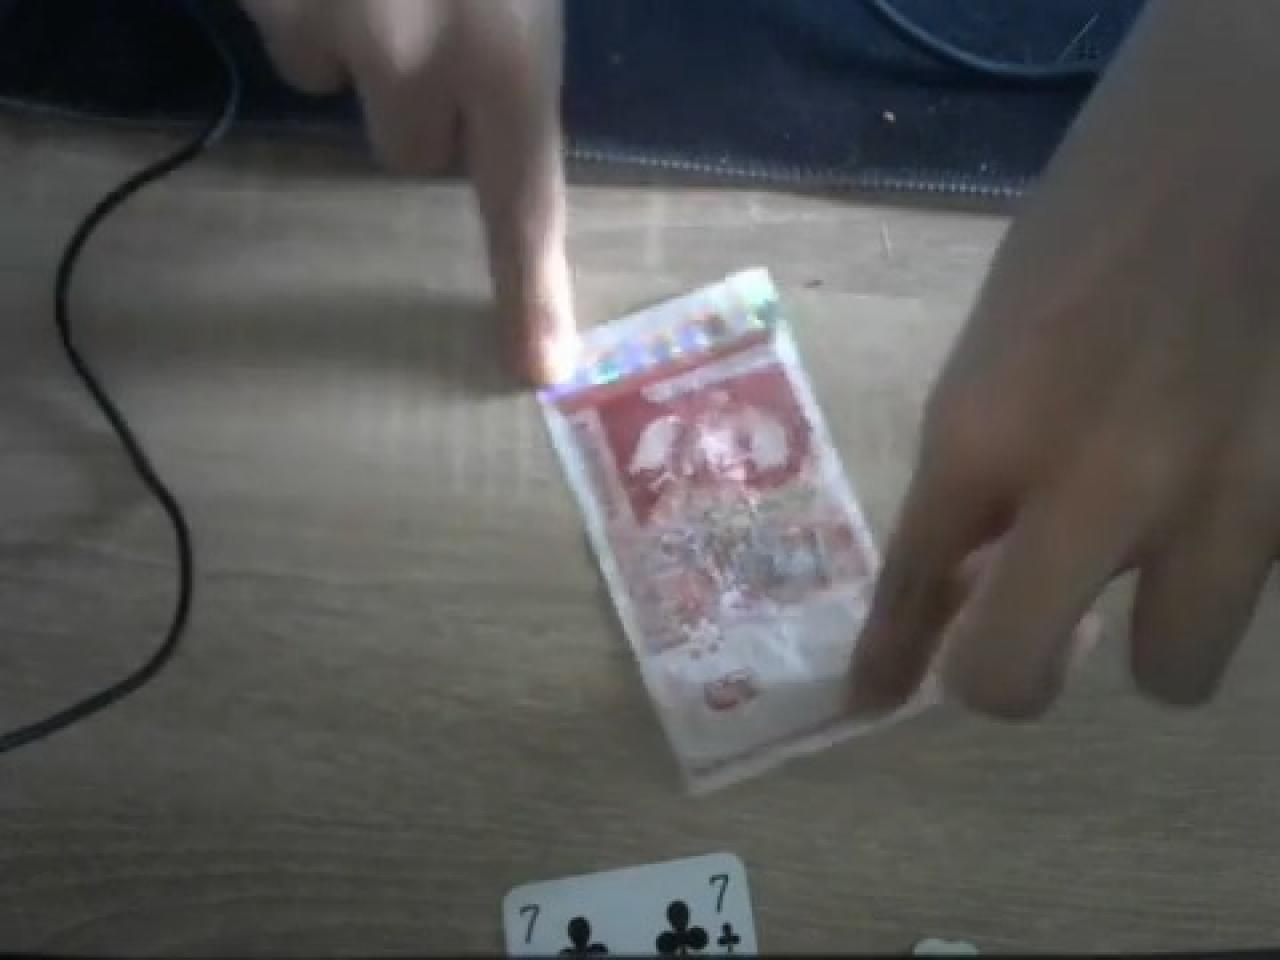5leva: (533, 266, 880, 800)
